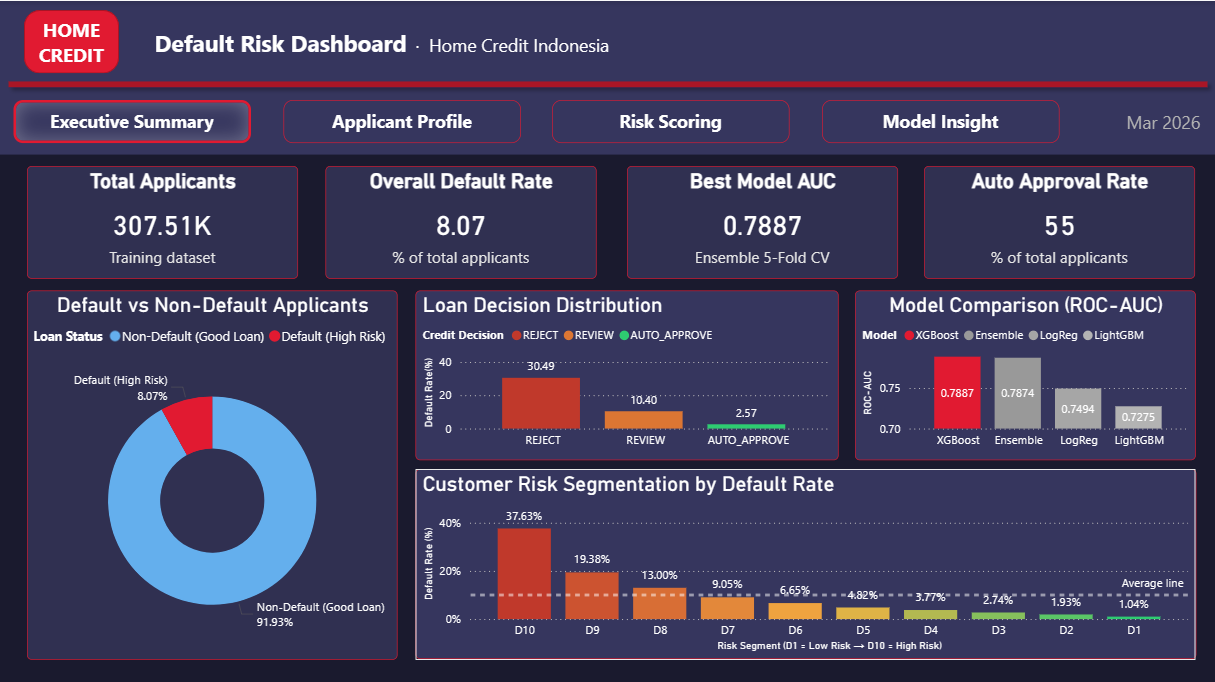

What the dashboard file says about the page in this screenshot:
{"tool":"powerbi","page":{"name":"Executive Summary","canvas":[1280,720],"ordinal":0},"visuals":[{"type":"shape","box":[0,0,1280,161.7],"z":0},{"type":"shape","box":[0,26.7,1280,121.7],"z":1000},{"type":"actionButton","title":"Executive Summary","box":[298.2,103.9,250,45],"z":2000},{"type":"actionButton","title":"Executive Summary","box":[14.9,103.9,250,45],"z":3000},{"type":"actionButton","title":"Executive Summary","box":[581.5,103.9,250,45],"z":4000},{"type":"actionButton","title":"Executive Summary","box":[864.9,103.9,250,45],"z":5000},{"type":"shape","box":[25,10,100,66.7],"z":6000},{"type":"textbox","box":[145,21.7,513.3,43.3],"z":7000},{"type":"textbox","box":[1165,108.3,103.3,35],"z":8000},{"type":"card","title":"Overall Default Rate","fields":{"Values":["Sum(pbi_kpi_summary.Value)"]},"box":[343.3,173.3,285,118.3],"z":9000},{"type":"card","title":"Best Model AUC","fields":{"Values":["Sum(pbi_kpi_summary.Value)"]},"box":[660,173.3,285,118.3],"z":10000},{"type":"clusteredColumnChart","title":"Customer Risk Segmentation by Default Rate","fields":{"Category":["Decile_Dim.Decile"],"Y":["Divide(Sum(pbi_decile_summary.Default_Rate), ScopedEval(Sum(pbi_decile_summary.Default_Rate), []))"]},"box":[436.7,493.3,821.7,200],"z":11000},{"type":"card","title":"Auto Approval Rate","fields":{"Values":["Sum(pbi_kpi_summary.Value)"]},"box":[973.3,173.3,285,118.3],"z":12000},{"type":"columnChart","title":"Model Comparison (ROC-AUC)","fields":{"Series":["pbi_model_comparison.Model"],"Category":["pbi_model_comparison.Model"],"Y":["Sum(pbi_model_comparison.ROC_AUC)"]},"box":[900,305,358.3,178.3],"z":13000},{"type":"card","title":"Total Applicants","fields":{"Values":["Sum(pbi_kpi_summary.Value)"]},"box":[28.3,173.3,285,118.3],"z":14000},{"type":"donutChart","title":"Default vs Non-Default Applicants","fields":{"Y":["CountNonNull(pbi_risk_scoring.SK_ID_CURR)"],"Category":["pbi_risk_scoring.Loan_Status"]},"box":[28.3,305,390,388.3],"z":15000},{"type":"columnChart","title":"Loan Decision Distribution","fields":{"Series":["pbi_tier_summary.Tier"],"Category":["pbi_tier_summary.Tier"],"Y":["Sum(pbi_tier_summary.Default_Rate_Pct)"]},"box":[436.7,305,445,178.3],"z":16000}]}

Visuals, with their boxes in screenshot pixels (x1, y1, x2, y2), scaled from the page's 1280x720 canvas onto the 1215x682 screenshot:
shape: [left=0, top=0, right=1214, bottom=153]
shape: [left=0, top=25, right=1214, bottom=141]
"Executive Summary" actionButton: [left=283, top=98, right=520, bottom=141]
"Executive Summary" actionButton: [left=14, top=98, right=251, bottom=141]
"Executive Summary" actionButton: [left=552, top=98, right=789, bottom=141]
"Executive Summary" actionButton: [left=821, top=98, right=1058, bottom=141]
shape: [left=24, top=9, right=119, bottom=73]
textbox: [left=138, top=21, right=625, bottom=62]
textbox: [left=1106, top=103, right=1204, bottom=136]
"Overall Default Rate" card: [left=326, top=164, right=596, bottom=276]
"Best Model AUC" card: [left=626, top=164, right=897, bottom=276]
"Customer Risk Segmentation by Default Rate" clusteredColumnChart: [left=415, top=467, right=1194, bottom=657]
"Auto Approval Rate" card: [left=924, top=164, right=1194, bottom=276]
"Model Comparison (ROC-AUC)" columnChart: [left=854, top=289, right=1194, bottom=458]
"Total Applicants" card: [left=27, top=164, right=297, bottom=276]
"Default vs Non-Default Applicants" donutChart: [left=27, top=289, right=397, bottom=657]
"Loan Decision Distribution" columnChart: [left=415, top=289, right=837, bottom=458]
